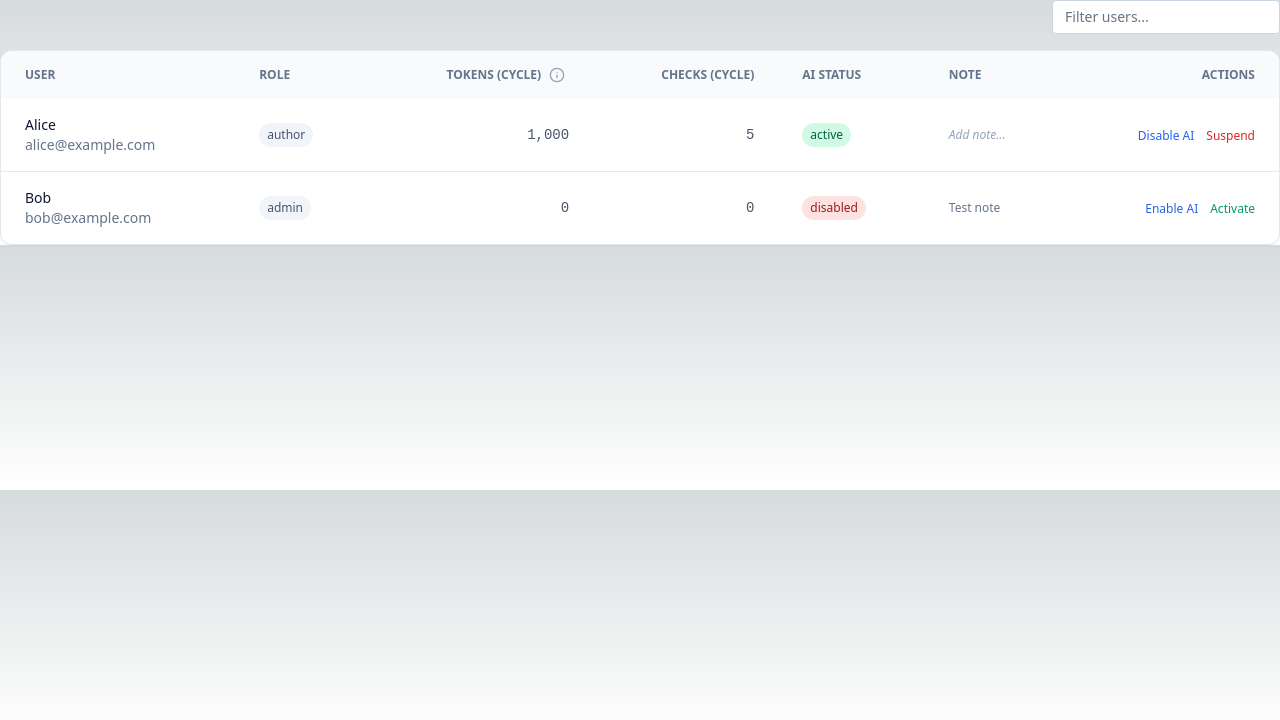
UserUsageTable › filters users
This screenshot has width=1280, height=720.
Type "Bob" into the field with placeholder "Filter users...". click: point(1166, 17)
box: [1052,0,1279,34]
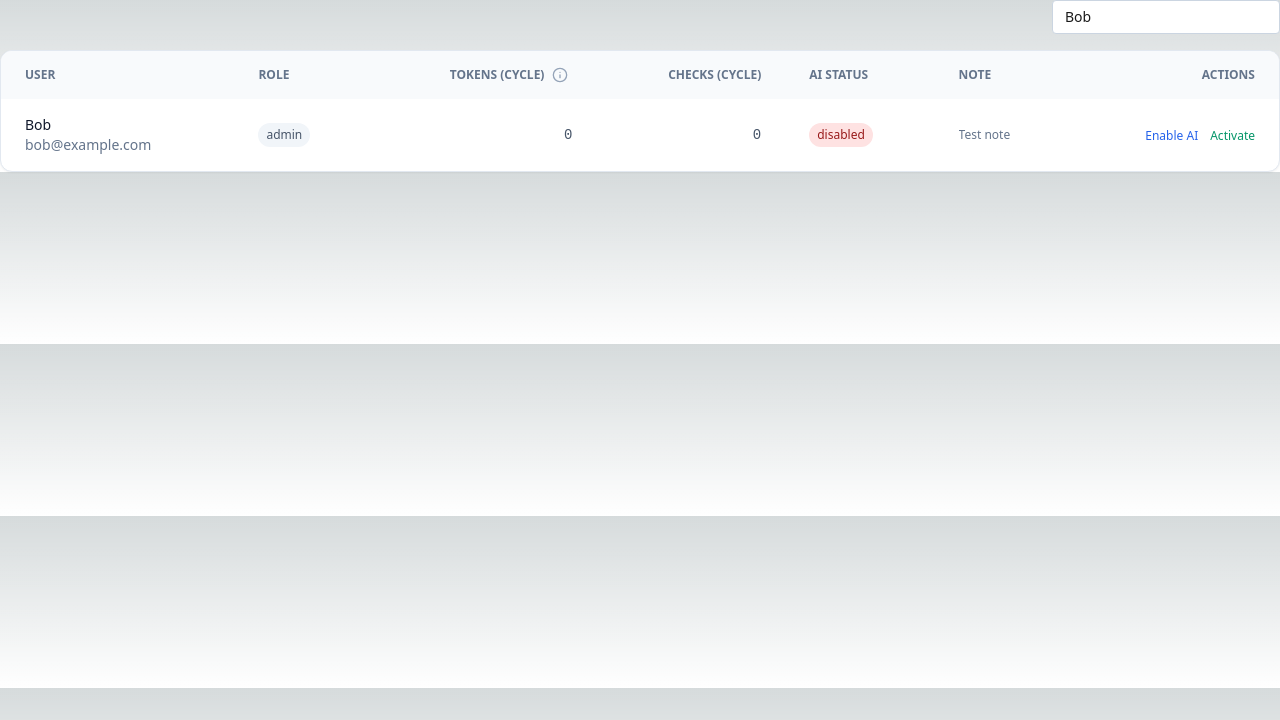
Expected: the text "Bob" is shown, [25,115,51,134]
Expected: the text "Alice" is gone
